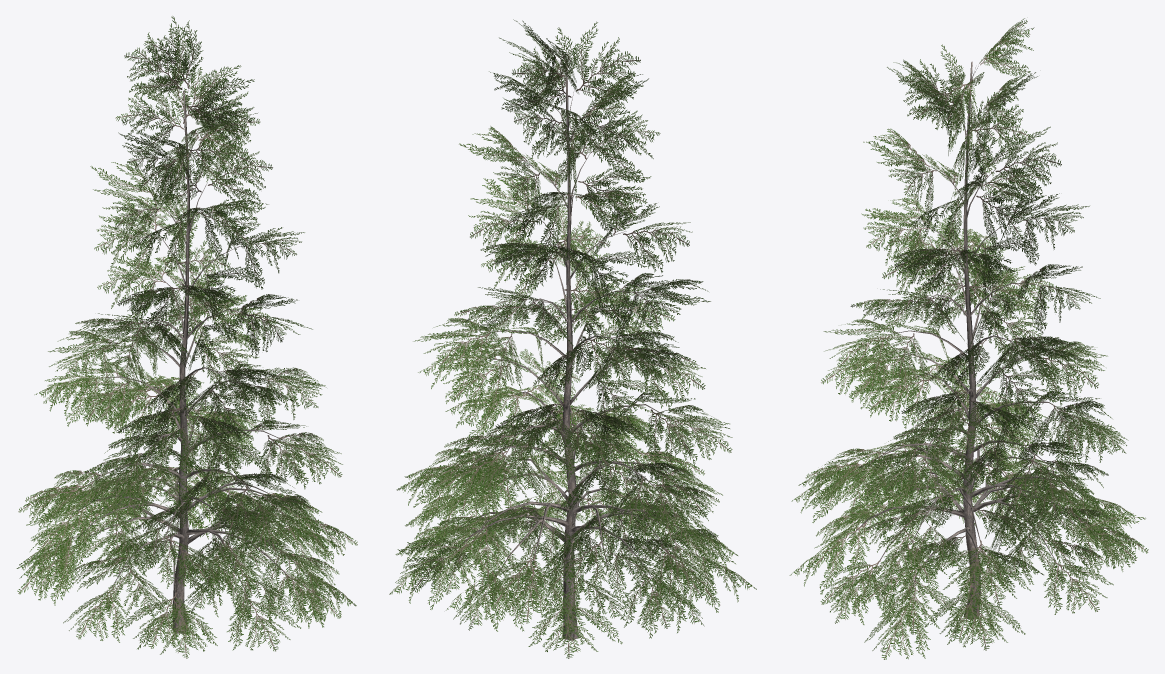
The model's file is sapin-1.glb.
3 renders of one model, left to right at view 1: azimuth 30°, elevation 25°; view 2: azimuth 150°, elevation 25°; view 3: azimuth 270°, elevation 25°, orthographic. The views are drawn at different scales.
Visible parts, largest first — view 1: Tree_1, Tree_0; view 2: Tree_1, Tree_0; view 3: Tree_1, Tree_0.
Part boxes in pixels (left/top/right/bottom): Tree_1: left=16, top=16, right=357, bottom=658; Tree_0: left=73, top=90, right=298, bottom=633; Tree_1: left=389, top=19, right=756, bottom=658; Tree_0: left=449, top=59, right=693, bottom=640; Tree_1: left=789, top=18, right=1148, bottom=659; Tree_0: left=847, top=61, right=1085, bottom=619.
Size of the model in its own units: 2.39 by 4.39 by 2.37.
Materials: 2 (2 with a texture image).
